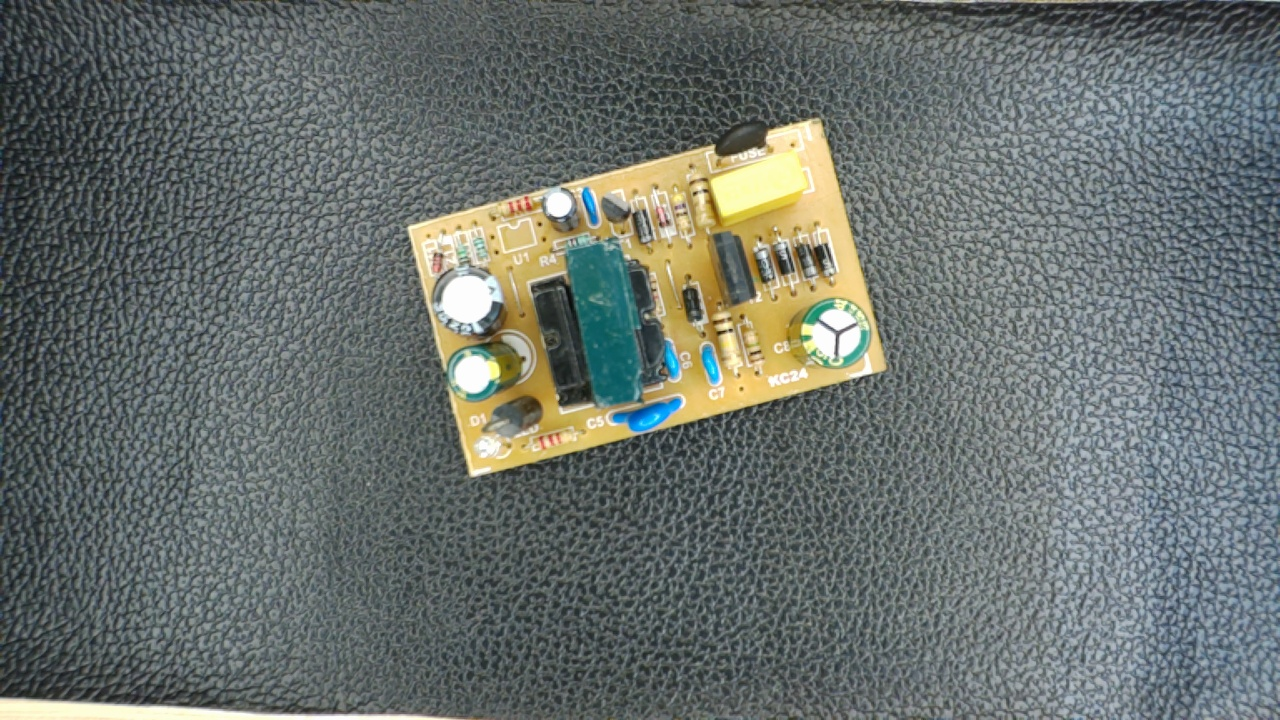fuse: (701, 120, 788, 173)
hv_capacitor: (783, 296, 875, 371)
mov: (605, 393, 690, 434)
